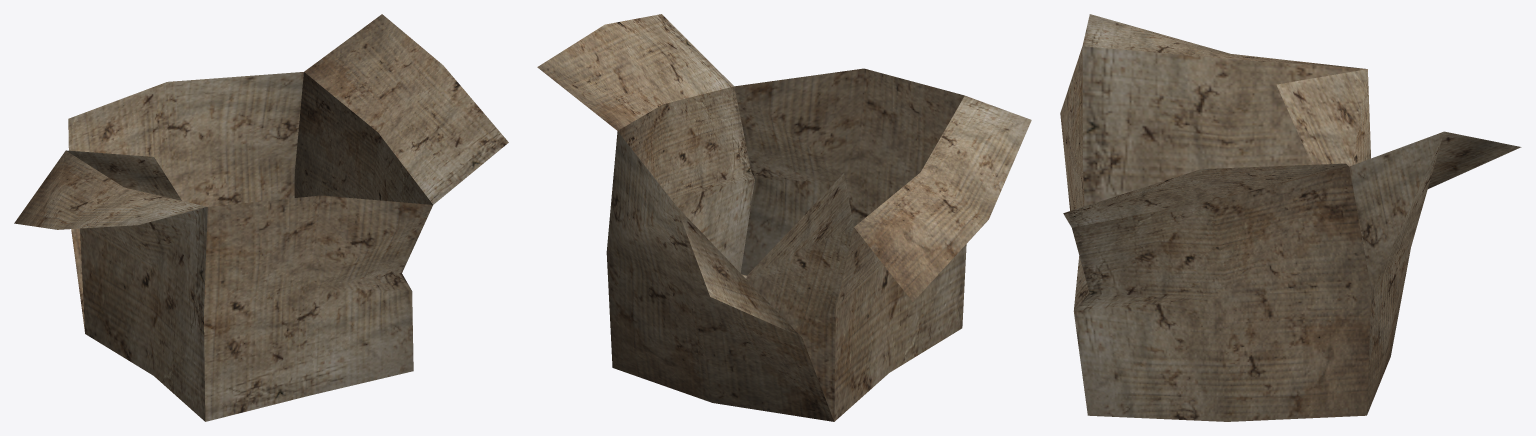
Rendered from Garbage1_13.fbx.
3 renders of one model, left to right at view 1: azimuth 30°, elevation 25°; view 2: azimuth 150°, elevation 25°; view 3: azimuth 270°, elevation 25°, orthographic. The views are drawn at different scales.
Visible parts, largest first — view 1: polySurface31; view 2: polySurface31; view 3: polySurface31.
Part boxes in pixels (x1,y1,x2,y2): polySurface31: (14,14,508,421); polySurface31: (537,14,1031,421); polySurface31: (1060,14,1521,421).
Bounding box in the file's own units: 4.13 × 2.67 × 3.75.
